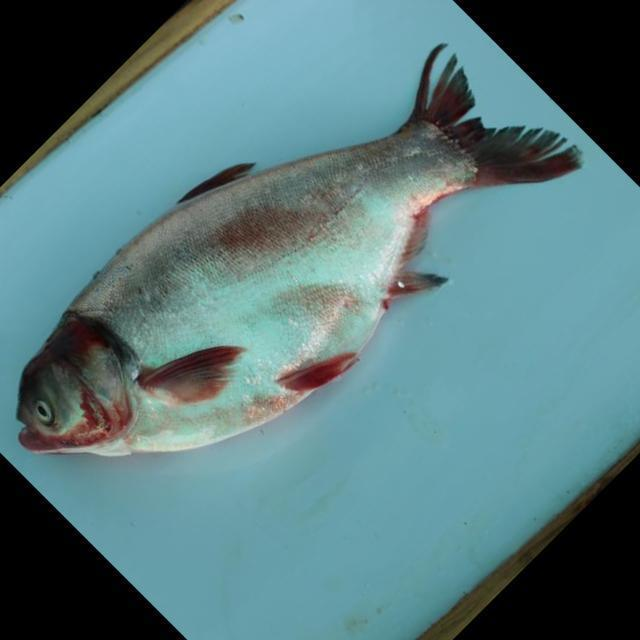Silver Carp: (16, 40, 585, 453)
